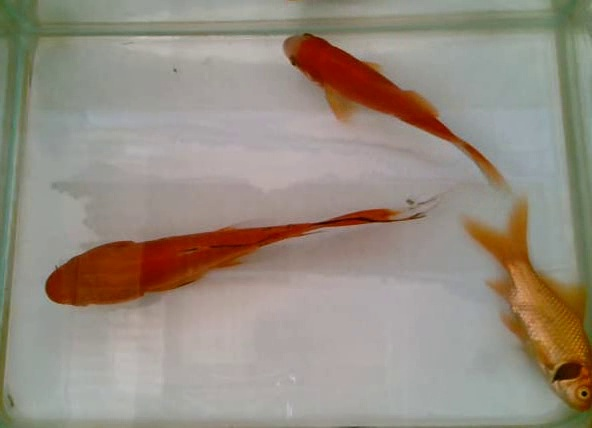alive_fish: (40, 181, 459, 311), (276, 32, 516, 200)
dead_fish: (452, 191, 592, 418)
